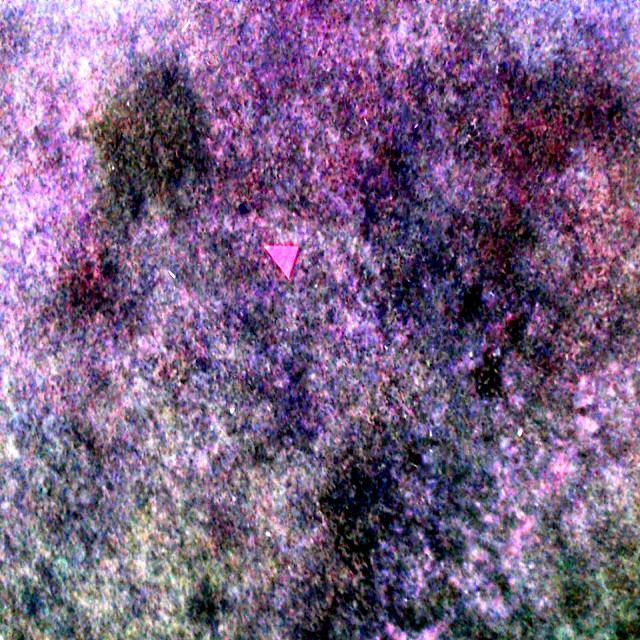red_triangle: (264, 244, 300, 282)
